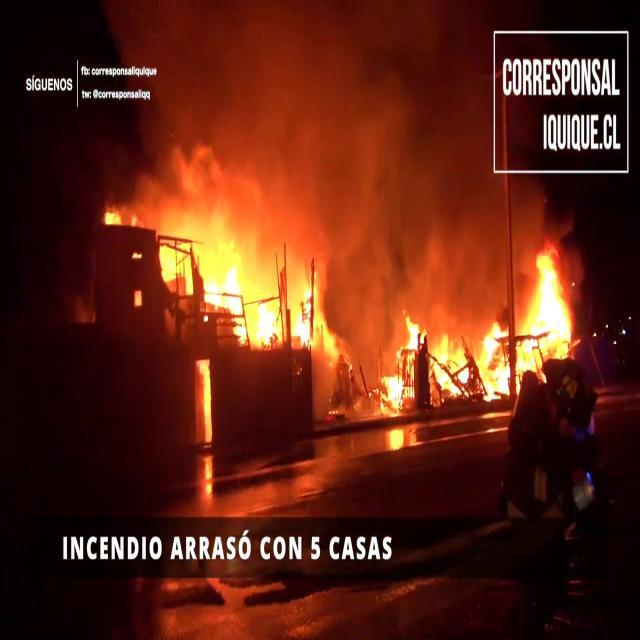Fire: (374, 248, 582, 414), (152, 214, 339, 356)
Smoke: (107, 0, 500, 268)
